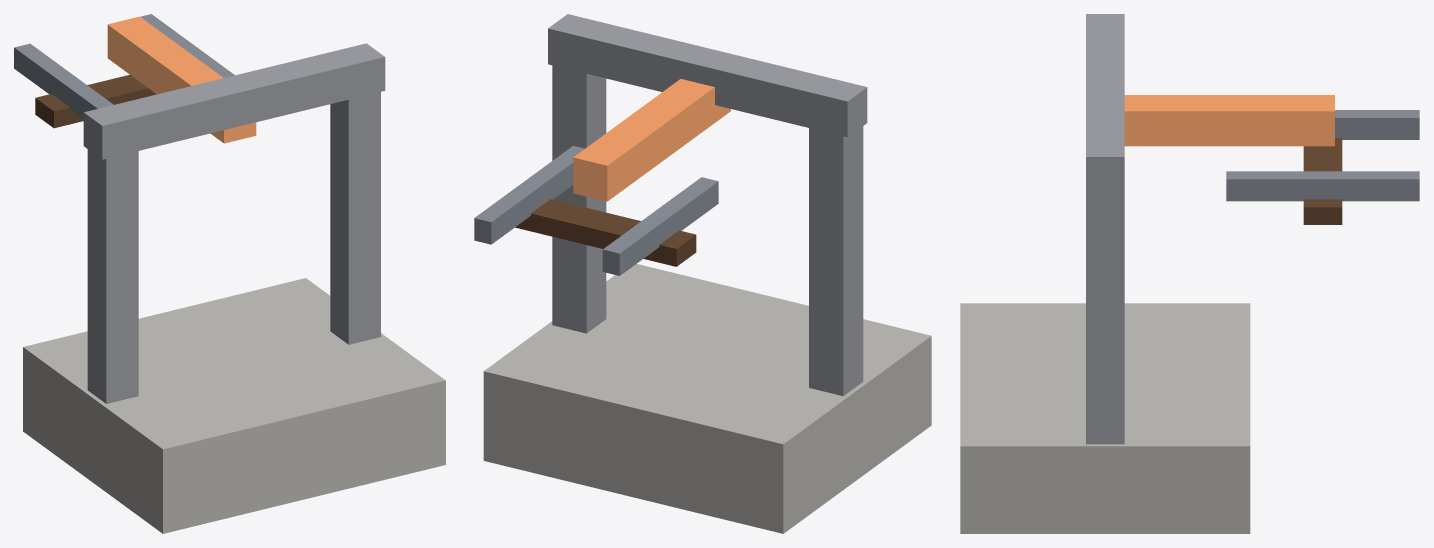
File: build_rail_layer.glb
3 renders of one model, left to right at view 1: azimuth 30°, elevation 25°; view 2: azimuth 150°, elevation 25°; view 3: azimuth 270°, elevation 25°, orthographic. The views are drawn at different scales.
Visible parts, largest first — view 1: Baked, _MeshInstance3D_645, _MeshInstance3D_646, _MeshInstance3D_648, _MeshInstance3D_647; view 2: Baked, _MeshInstance3D_645, _MeshInstance3D_648, _MeshInstance3D_646, _MeshInstance3D_647; view 3: Baked, _MeshInstance3D_645, _MeshInstance3D_647, _MeshInstance3D_646, _MeshInstance3D_648.
Boxes of the visible parts, left/top/right/bottom form: Baked: left=23, top=43, right=445, bottom=533; _MeshInstance3D_645: left=107, top=16, right=256, bottom=143; _MeshInstance3D_646: left=14, top=43, right=113, bottom=119; _MeshInstance3D_648: left=35, top=74, right=156, bottom=128; _MeshInstance3D_647: left=140, top=14, right=234, bottom=77; Baked: left=483, top=14, right=931, bottom=533; _MeshInstance3D_645: left=573, top=79, right=730, bottom=201; _MeshInstance3D_648: left=515, top=199, right=696, bottom=266; _MeshInstance3D_646: left=602, top=177, right=718, bottom=275; _MeshInstance3D_647: left=474, top=146, right=584, bottom=244; Baked: left=960, top=14, right=1250, bottom=533; _MeshInstance3D_645: left=1124, top=95, right=1334, bottom=146; _MeshInstance3D_647: left=1226, top=171, right=1419, bottom=201; _MeshInstance3D_646: left=1335, top=110, right=1419, bottom=139; _MeshInstance3D_648: left=1303, top=138, right=1342, bottom=224.
Bounding box in the file's own units: 0.7 × 0.86 × 0.95.
